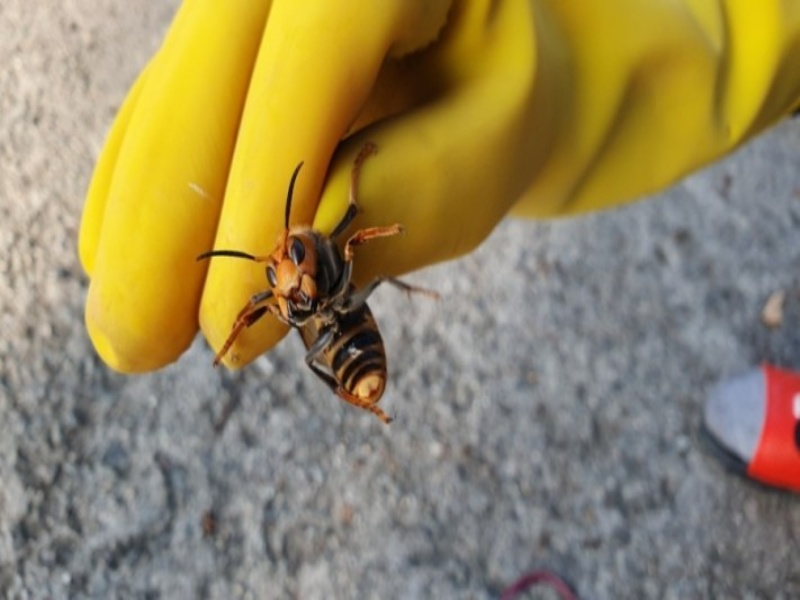asian_giant_hornet: (209, 140, 388, 408)
